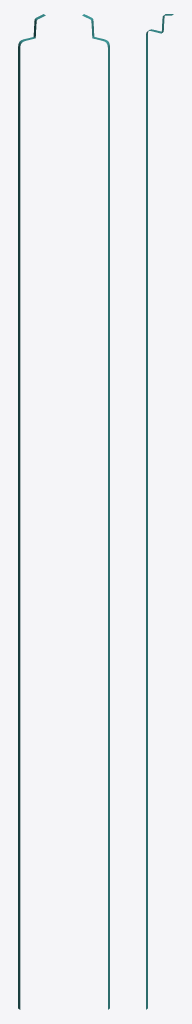
File: waterfall_B.FBX
The picture shows the model from 3 angles, left to right: view 1: azimuth 30°, elevation 25°; view 2: azimuth 150°, elevation 25°; view 3: azimuth 330°, elevation 25°; orthographic projection.
Visible parts, largest first — view 1: waterfall_B; view 2: waterfall_B; view 3: waterfall_B.
Boxes of the visible parts, bbox=[...] form: waterfall_B: bbox=[18, 14, 45, 1009]; waterfall_B: bbox=[82, 14, 109, 1009]; waterfall_B: bbox=[146, 14, 173, 1009].
Size of the model in its own units: 30.42 by 1113 by 4.45.
